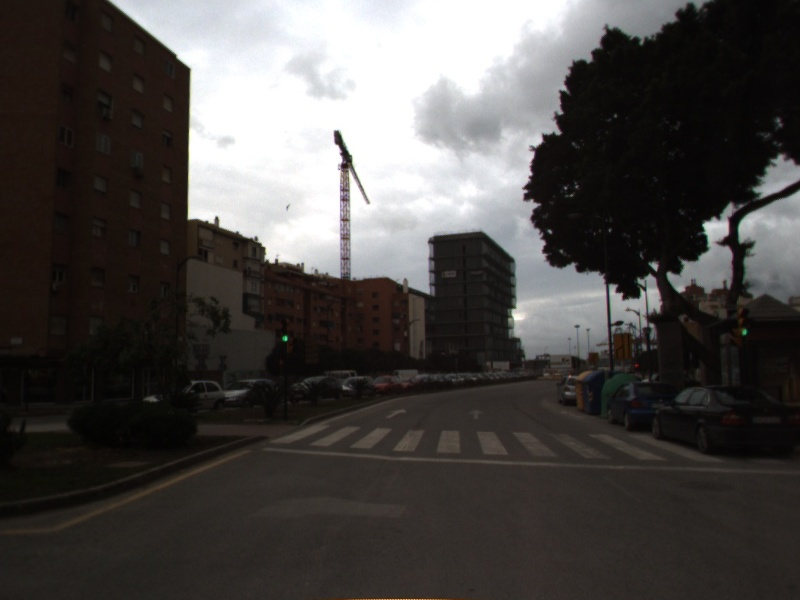STRAIGHT: (383, 407, 409, 420), (466, 407, 487, 421)
